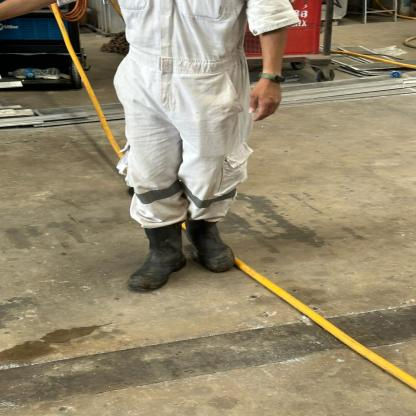bota: (123, 221, 192, 293), (188, 215, 237, 277)
